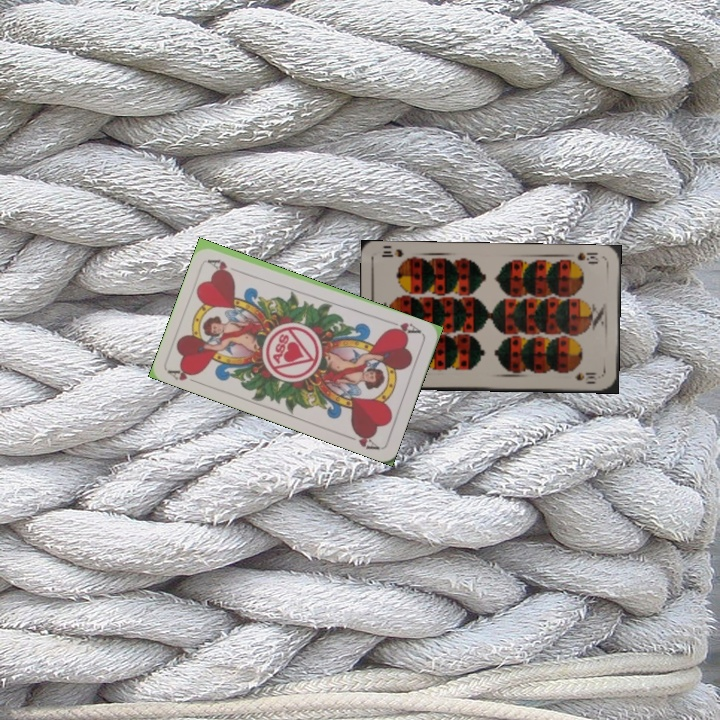HA: (165, 363, 205, 388), (385, 316, 424, 338)
S10: (573, 248, 601, 267)
